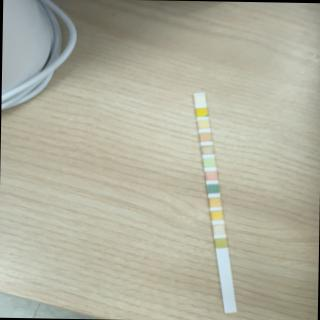mark: (214, 238, 227, 248), (213, 224, 225, 234), (202, 158, 215, 167), (197, 119, 209, 128), (199, 132, 211, 141), (206, 184, 218, 193), (210, 211, 222, 220), (195, 108, 208, 116), (205, 171, 216, 180), (201, 146, 213, 154), (209, 198, 221, 206), (194, 95, 205, 103)
